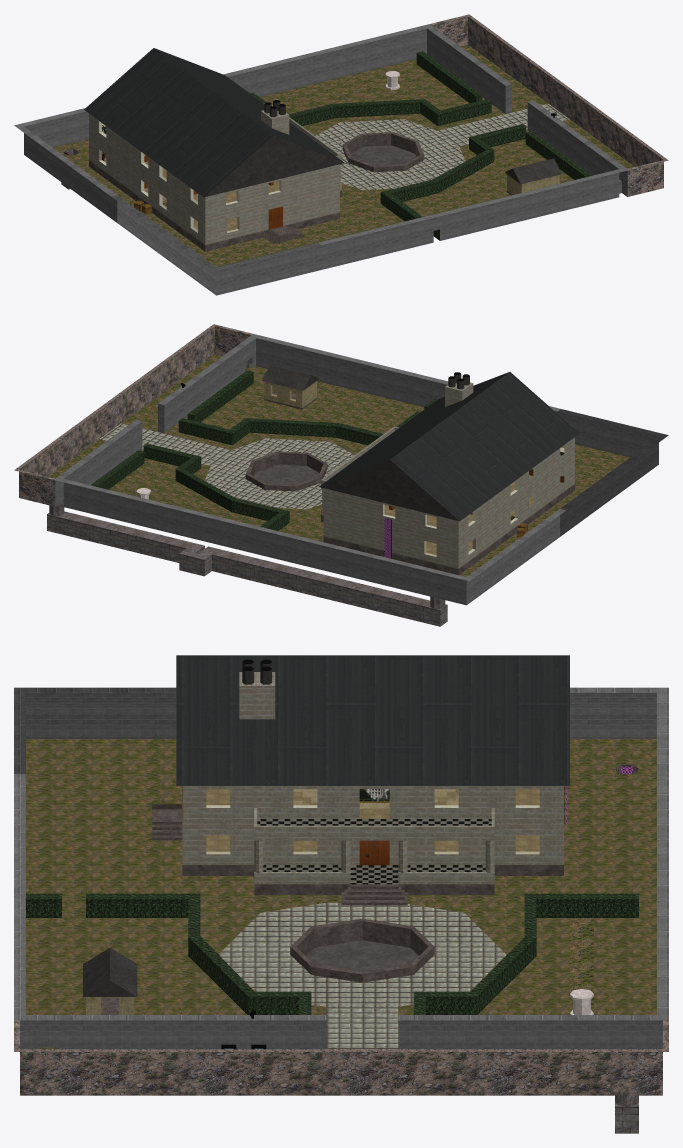
File: cs_mansion.FBX
3 views of the same model, one above another, from view 1: azimuth 30°, elevation 25°; view 2: azimuth 150°, elevation 25°; view 3: azimuth 270°, elevation 25° (orthographic). The views are drawn at different scales.
Visible parts, largest first — view 1: BSP_Object_model_0; view 2: BSP_Object_model_0; view 3: BSP_Object_model_0, BSP_Object_model_31.
Boxes of the visible parts, bbox=[...] form: BSP_Object_model_0: bbox=[14, 14, 668, 295]; BSP_Object_model_0: bbox=[14, 324, 668, 626]; BSP_Object_model_0: bbox=[14, 655, 668, 1133]; BSP_Object_model_31: bbox=[359, 840, 389, 865].
Bounding box in the file's own units: 2296 × 680 × 1744.
Materials: 60 (60 with a texture image).
